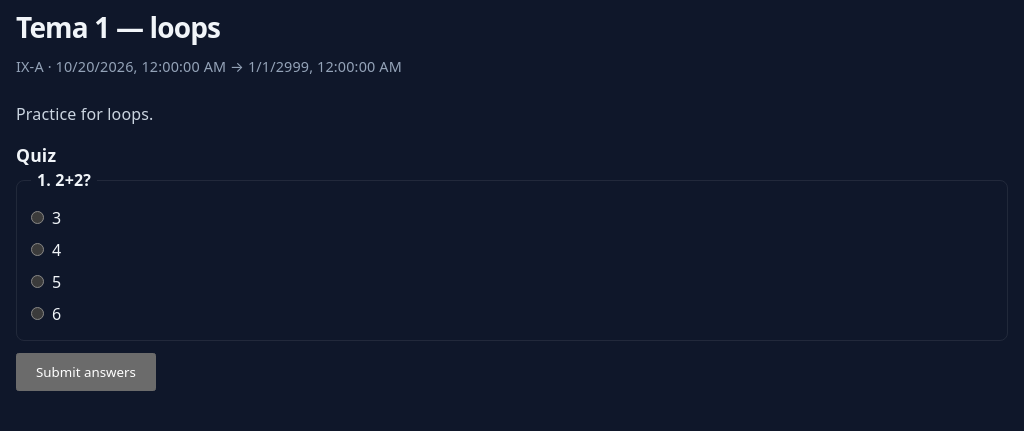
Test: AssignmentDetailPage quiz + files (Wave C) › renders the shuffled quiz sheet and submits the answers
Expected: the element with test id "quiz-section" is shown, [16, 142, 1008, 391]
Expected: the text "1. 2+2?" is shown, [37, 169, 91, 191]
Click the radio button labelled "4" at (38, 250), box [31, 243, 44, 256]
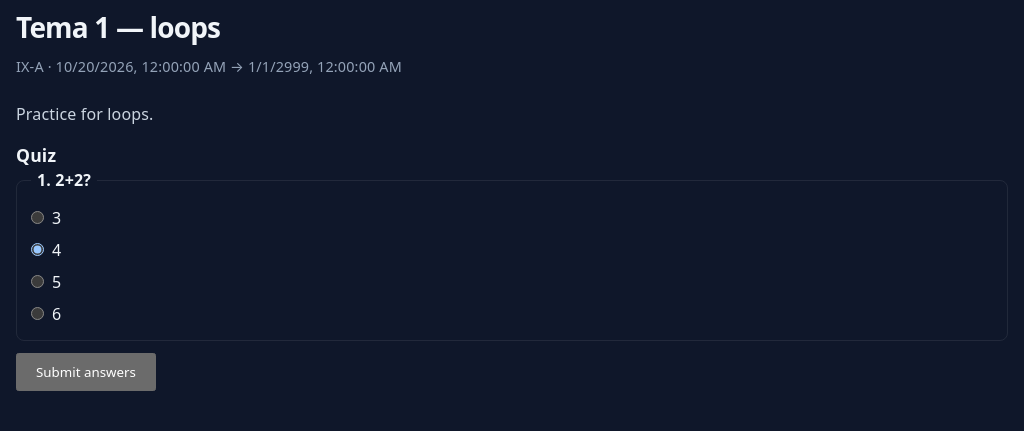
Click the button with test id "quiz-submit" at (86, 372), box [16, 353, 156, 391]
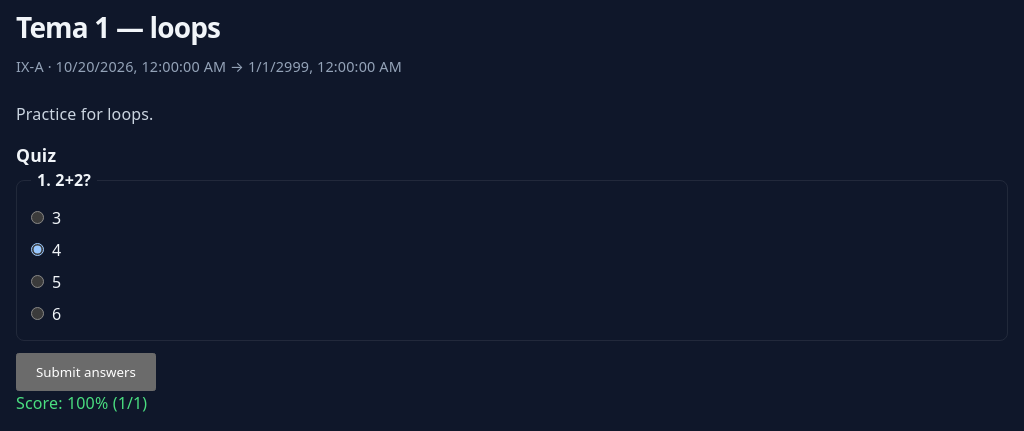
Now the text with test id "quiz-result" shows "100%", box [16, 392, 147, 414]
